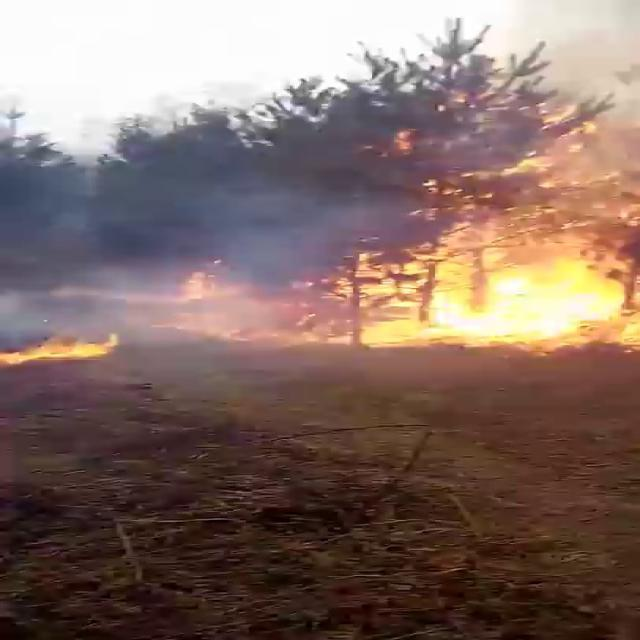Fire: (342, 240, 640, 352), (0, 326, 123, 368)
Smoke: (0, 100, 377, 320)
